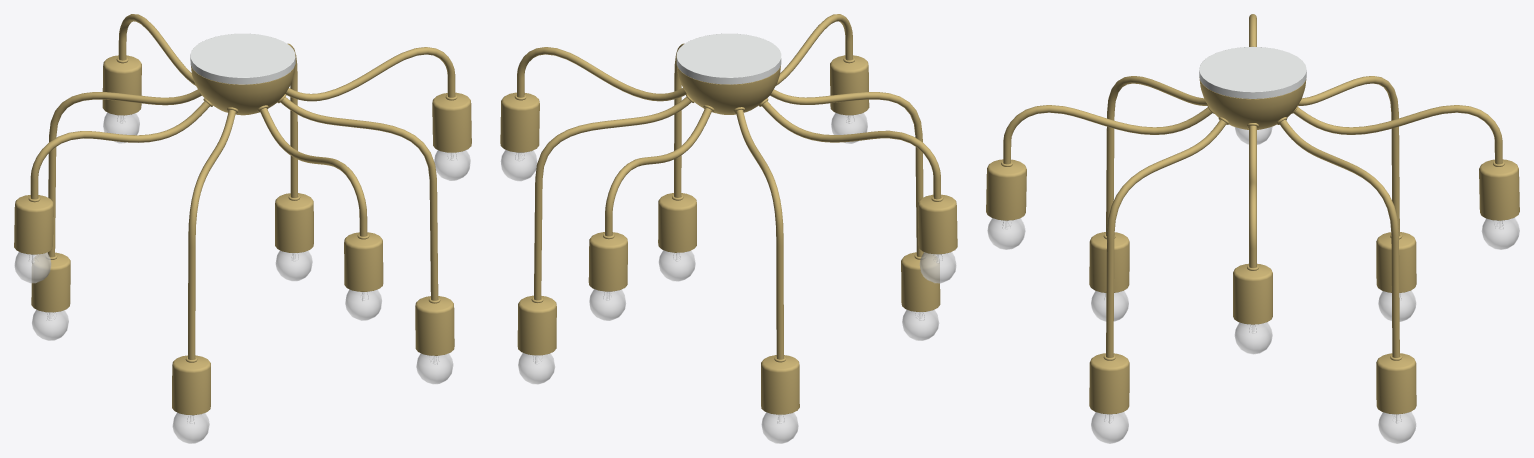
File: taklampa.glb
3 views of the same model, side by side, from view 1: azimuth 30°, elevation 25°; view 2: azimuth 150°, elevation 25°; view 3: azimuth 270°, elevation 25° (orthographic). The views are drawn at different scales.
Parts seen in each view (by area): view 1: Taklampa, Glass; view 2: Taklampa, Glass; view 3: Taklampa, Glass.
Boxes of the visible parts, x1,y1,x2,y2 form: Taklampa: (14,14,471,423); Glass: (14,112,470,443); Taklampa: (500,14,957,422); Glass: (500,113,956,443); Taklampa: (986,14,1519,422); Glass: (987,127,1519,443).
Size of the model in its own units: 15.58 by 10.05 by 15.58.
2 materials, 2 textured.
